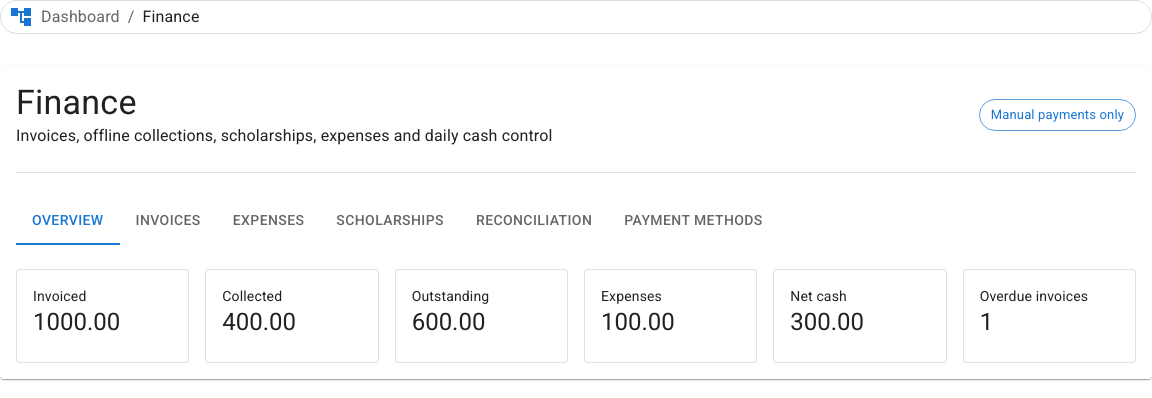
Test case: FinanceManagement › shows the no-gateway summary and invoice workflow
The width and height of the screenshot is (1152, 398).
Expected: the text "Manual payments only" is shown, [980,105,1135,125]
Expected: the heading "600.00" is shown, [412,308,486,336]
Click the tab "Invoices": (168, 221) [120,197,217,245]
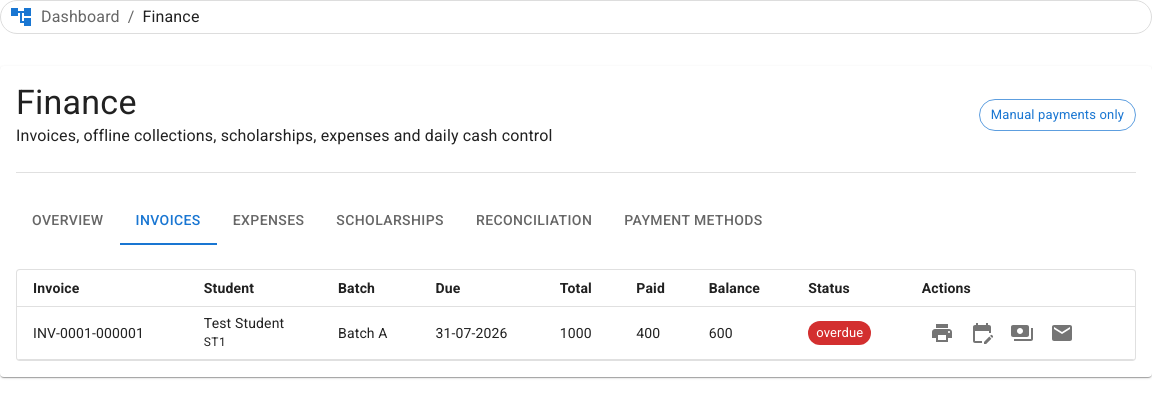
Now the text "INV-0001-000001" is shown, box [17,306,188,360]
Now the text "Test Student" is shown, box [204,315,284,331]
